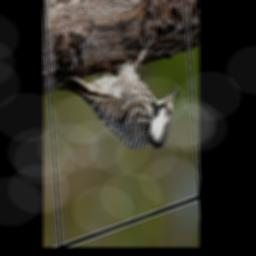Woodpecker: (53, 10, 183, 184)
